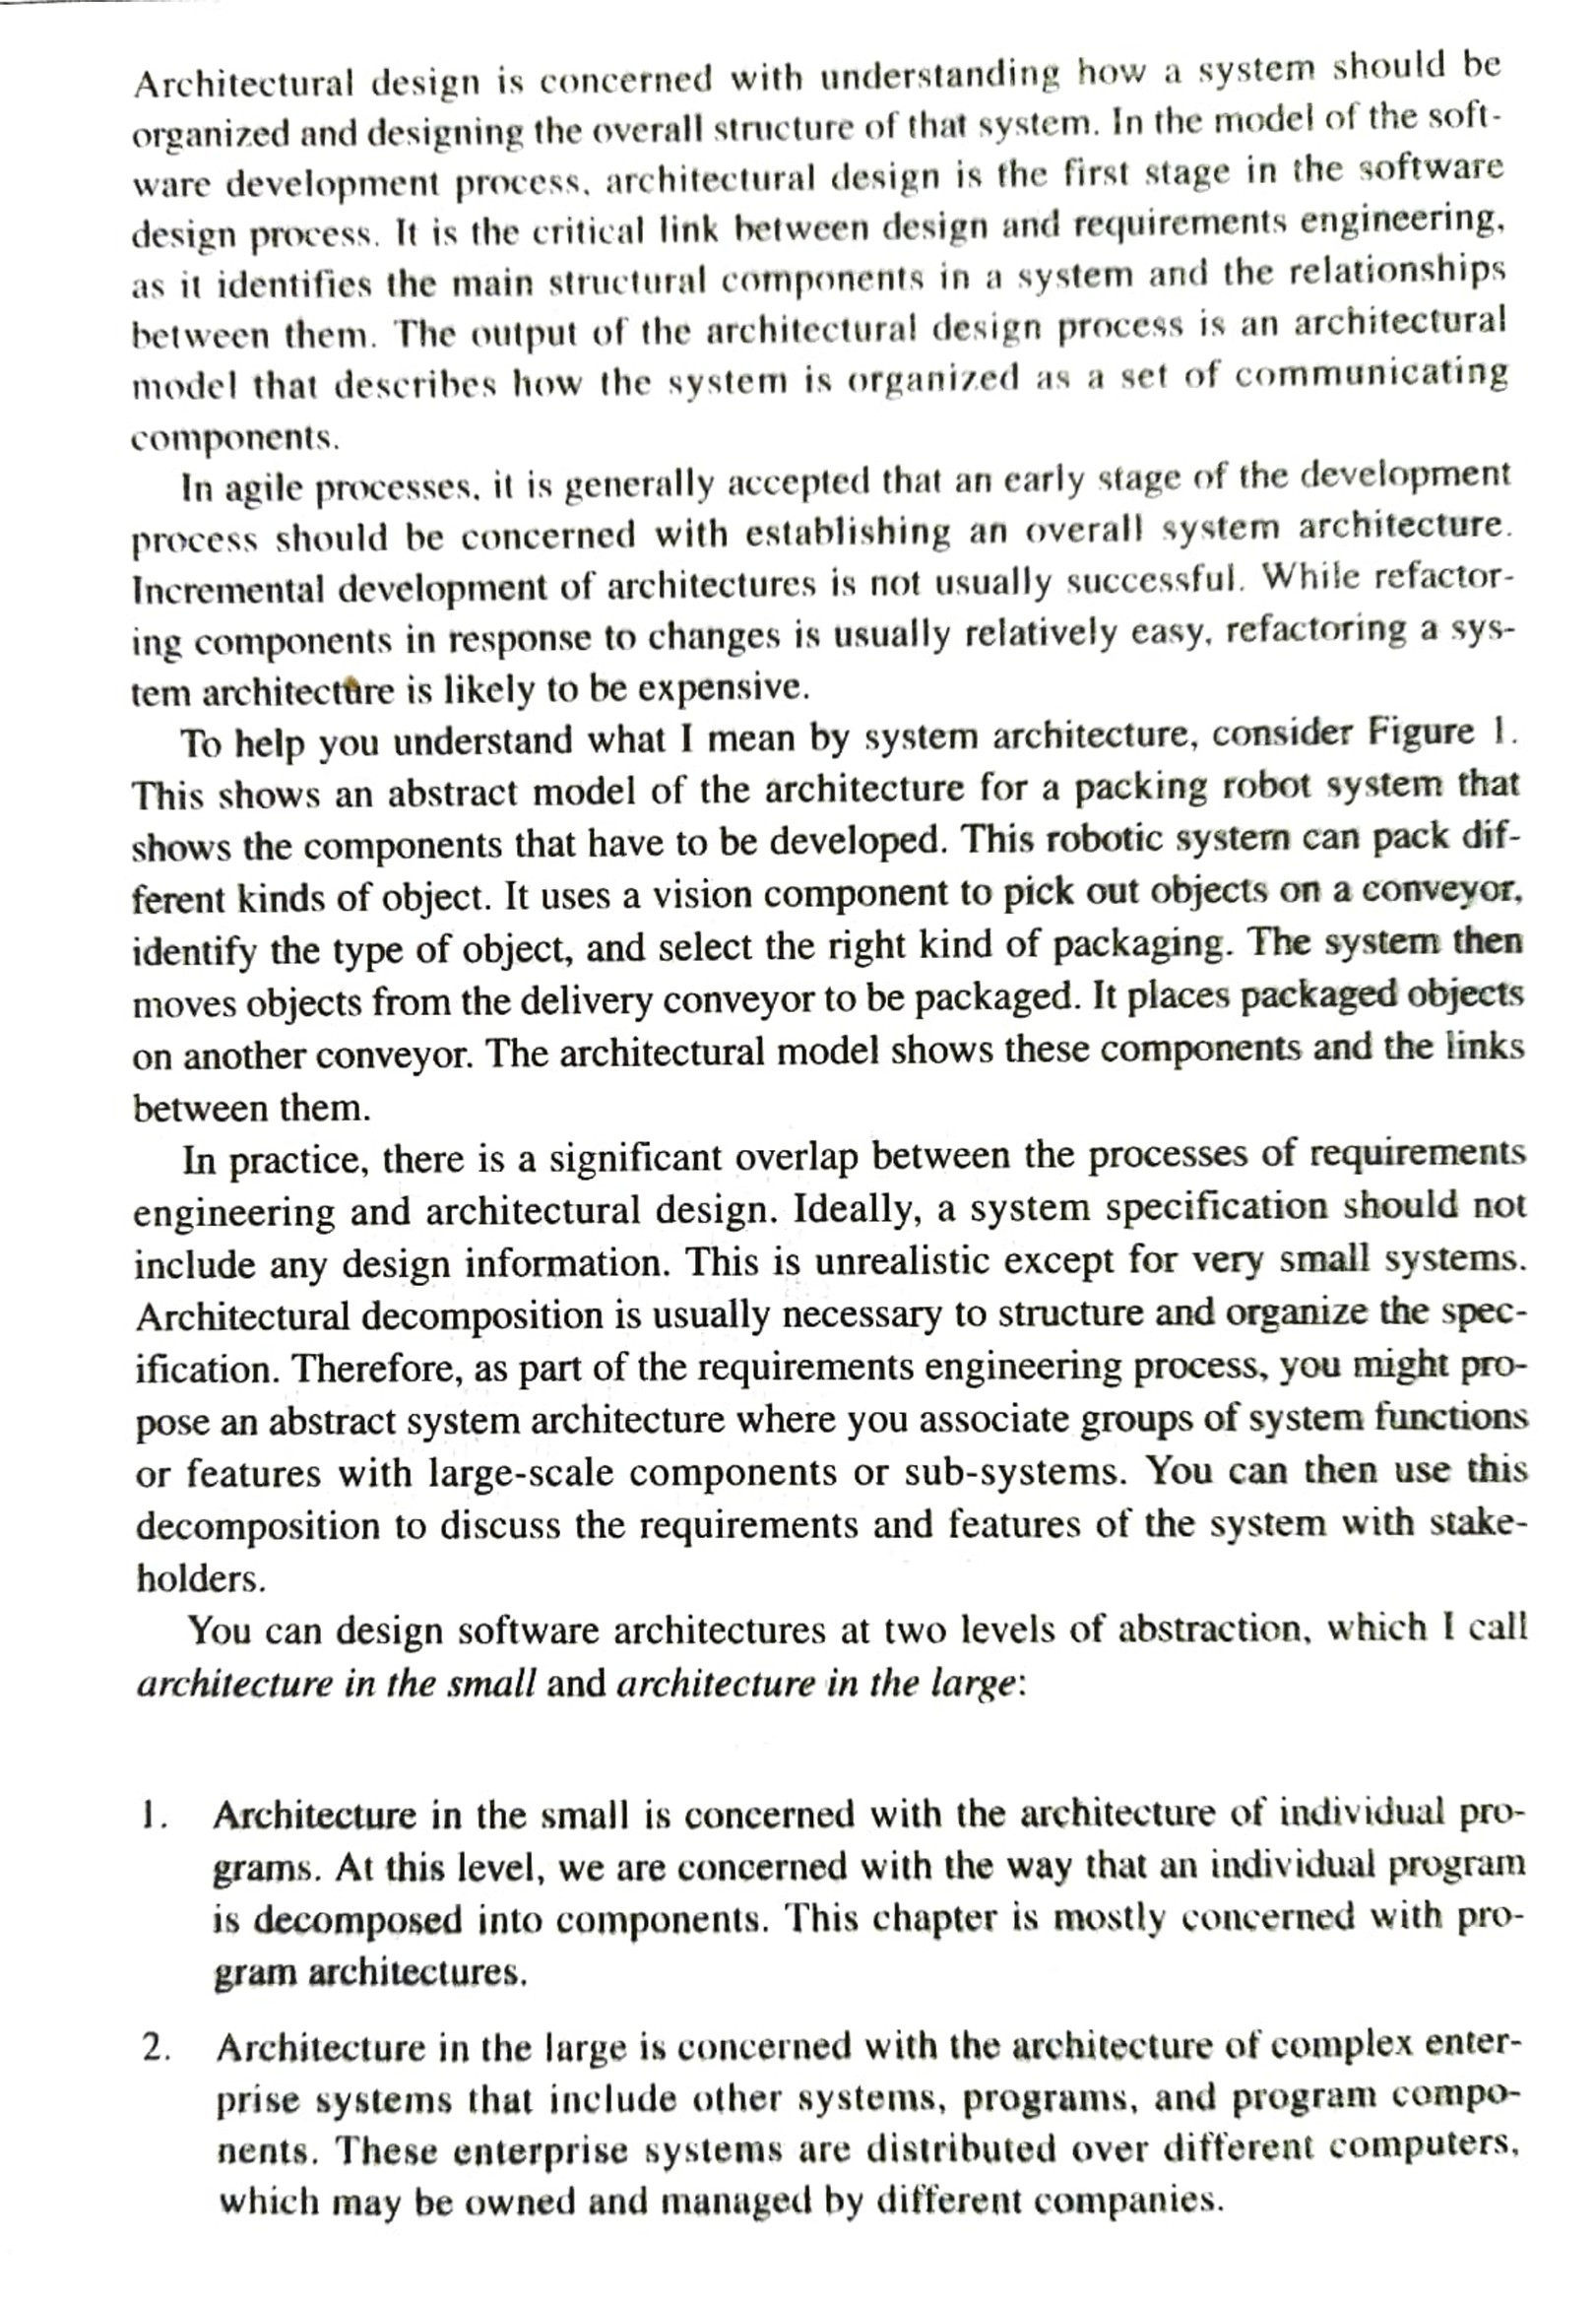BB1: (73, 26, 1554, 462)
BB2: (68, 458, 1556, 709)
BB3: (73, 703, 1556, 1134)
BB4: (66, 1130, 1554, 1601)
